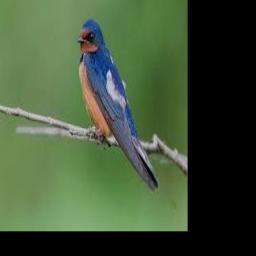Swallow: (77, 21, 159, 190)
